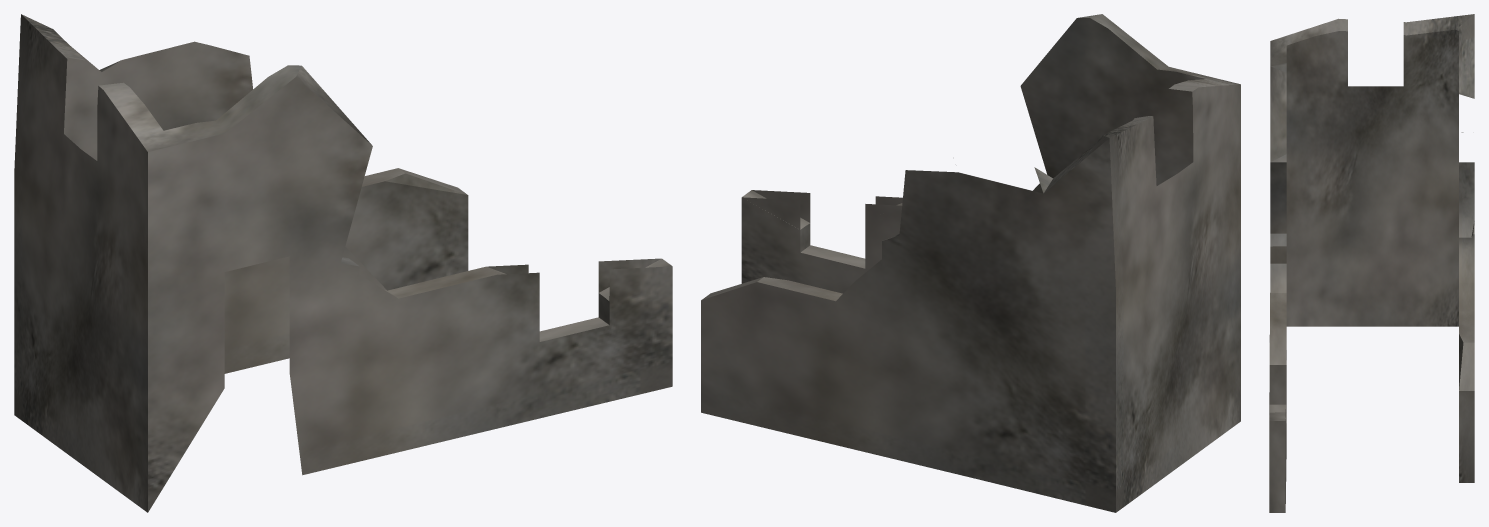
File: house7.gltf
The picture shows the model from 3 angles, left to right: view 1: azimuth 30°, elevation 25°; view 2: azimuth 150°, elevation 25°; view 3: azimuth 270°, elevation 25°; orthographic projection. The views are drawn at different scales.
Parts seen in each view (by area): view 1: house7_atomic0; view 2: house7_atomic0; view 3: house7_atomic0.
Boxes of the visible parts, box(x1,y1,x2,y2) form: house7_atomic0: box(14, 14, 672, 512); house7_atomic0: box(701, 14, 1240, 512); house7_atomic0: box(1269, 14, 1474, 512).
Bounding box in the file's own units: 63.07 × 46.45 × 28.02.
1 material, 1 textured.
